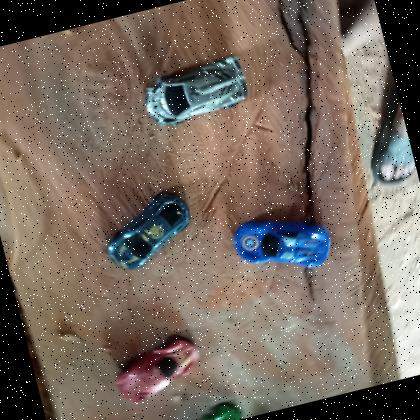Car: (92, 185, 200, 277), (136, 50, 255, 132), (229, 202, 340, 286)
